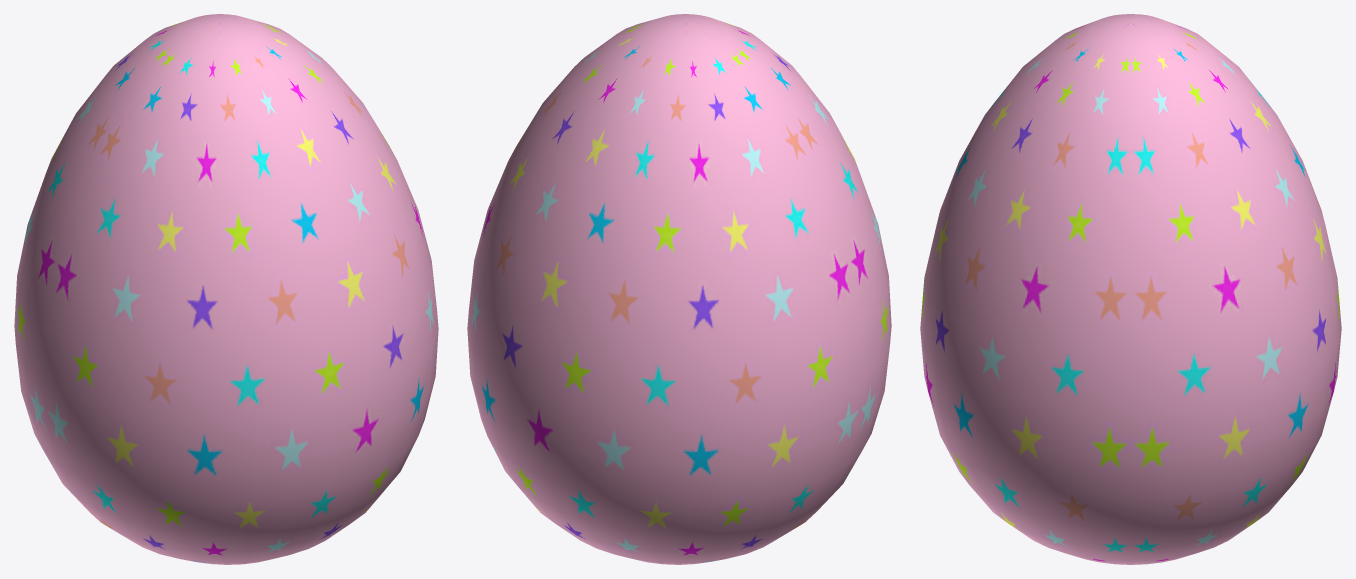
The model's file is item_eventeasteregg.glb.
3 renders of one model, left to right at view 1: azimuth 30°, elevation 25°; view 2: azimuth 150°, elevation 25°; view 3: azimuth 270°, elevation 25°, orthographic.
Parts seen in each view (by area): view 1: FlyffMesh; view 2: FlyffMesh; view 3: FlyffMesh.
Part boxes in pixels (bbox=[...]): FlyffMesh: bbox=[14, 14, 438, 564]; FlyffMesh: bbox=[467, 14, 891, 564]; FlyffMesh: bbox=[920, 14, 1341, 564].
Size of the model in its own units: 0.2087 by 0.2834 by 0.2089.
1 material, 1 textured.
